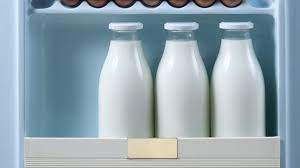milk: (95, 14, 151, 143), (212, 16, 269, 141), (156, 20, 207, 140)
